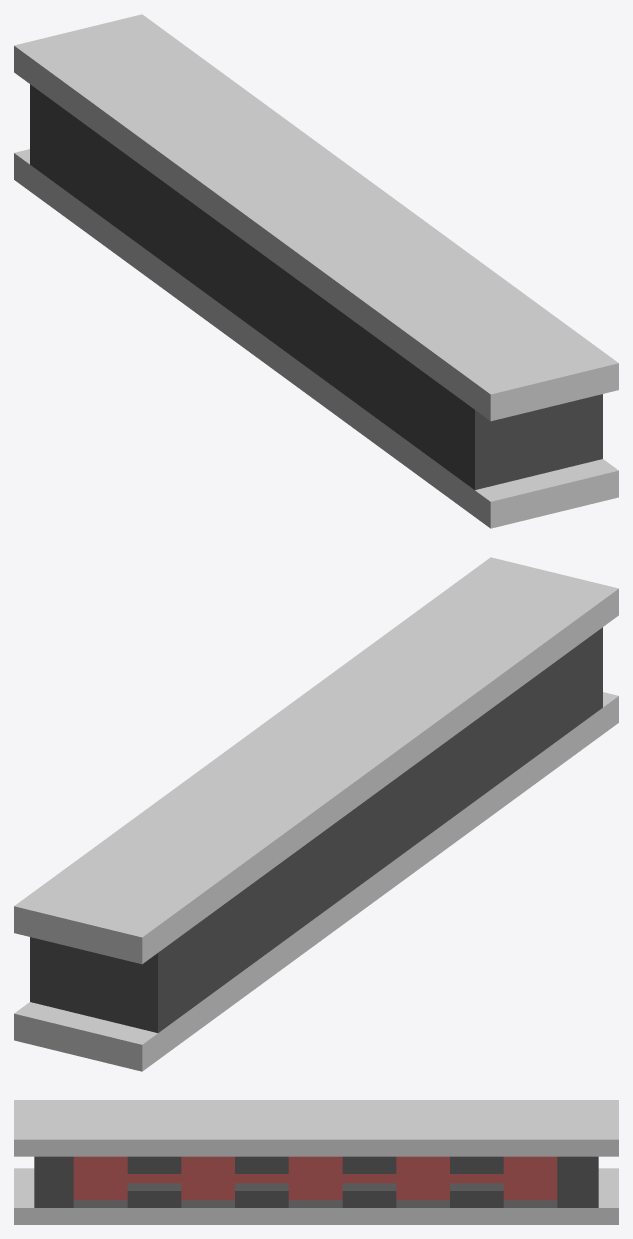
Rendered from ActualBar.fbx.
3 renders of one model, top to bottom at view 1: azimuth 30°, elevation 25°; view 2: azimuth 150°, elevation 25°; view 3: azimuth 270°, elevation 25°, orthographic. The views are drawn at different scales.
Parts seen in each view (by area): view 1: pCube465; view 2: pCube465; view 3: pCube465.
Boxes of the visible parts, x1,y1,x2,y2 form: pCube465: (14,14,618,528); pCube465: (14,557,618,1071); pCube465: (14,1100,618,1224).
Bounding box in the file's own units: 1 × 1 × 6.44.
